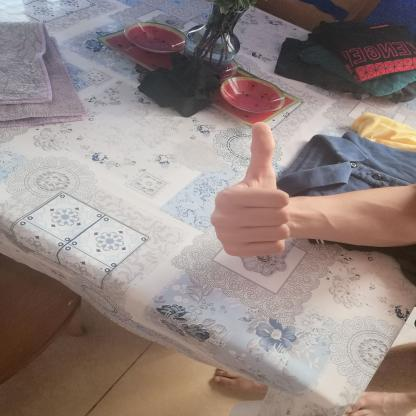ALIF: (190, 112, 316, 270)
